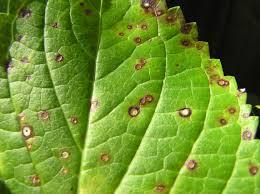leaf_spot: (14, 8, 259, 186)
